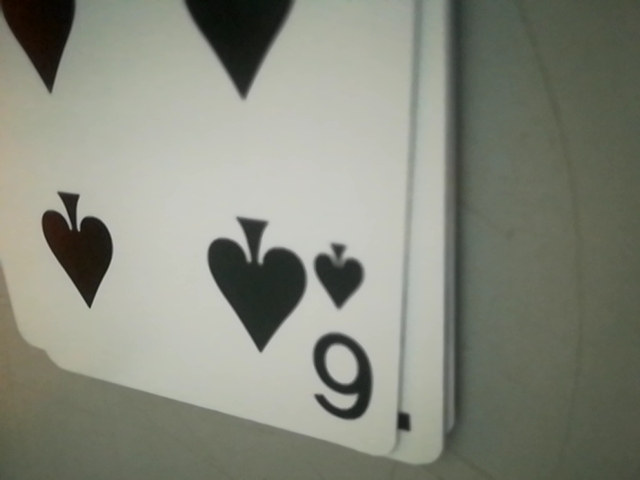ht 6: (304, 233, 386, 434)
